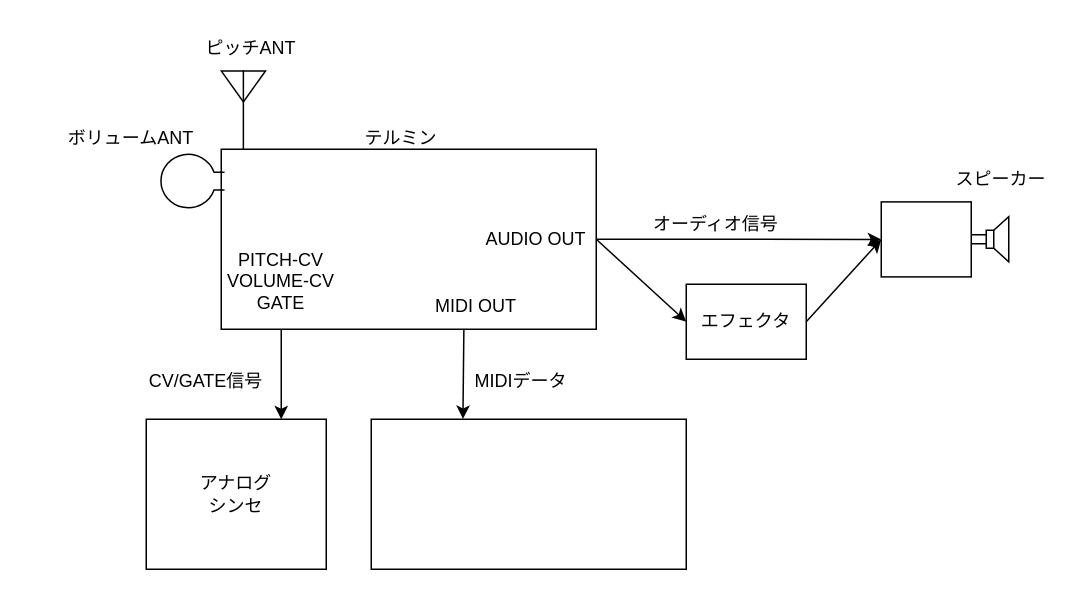
Some shapes in this 1086 by 596 pixel diagram are drawn without their labels. The centre of each missing label's shape, as x and y in pixels:
"MIDI機器： デジタルシンセ、 PC・スマホ・タブレット （ソフトシンセ・DAW）、 その他" belongs at [528,493].
"アンプ" belongs at [925,238].
